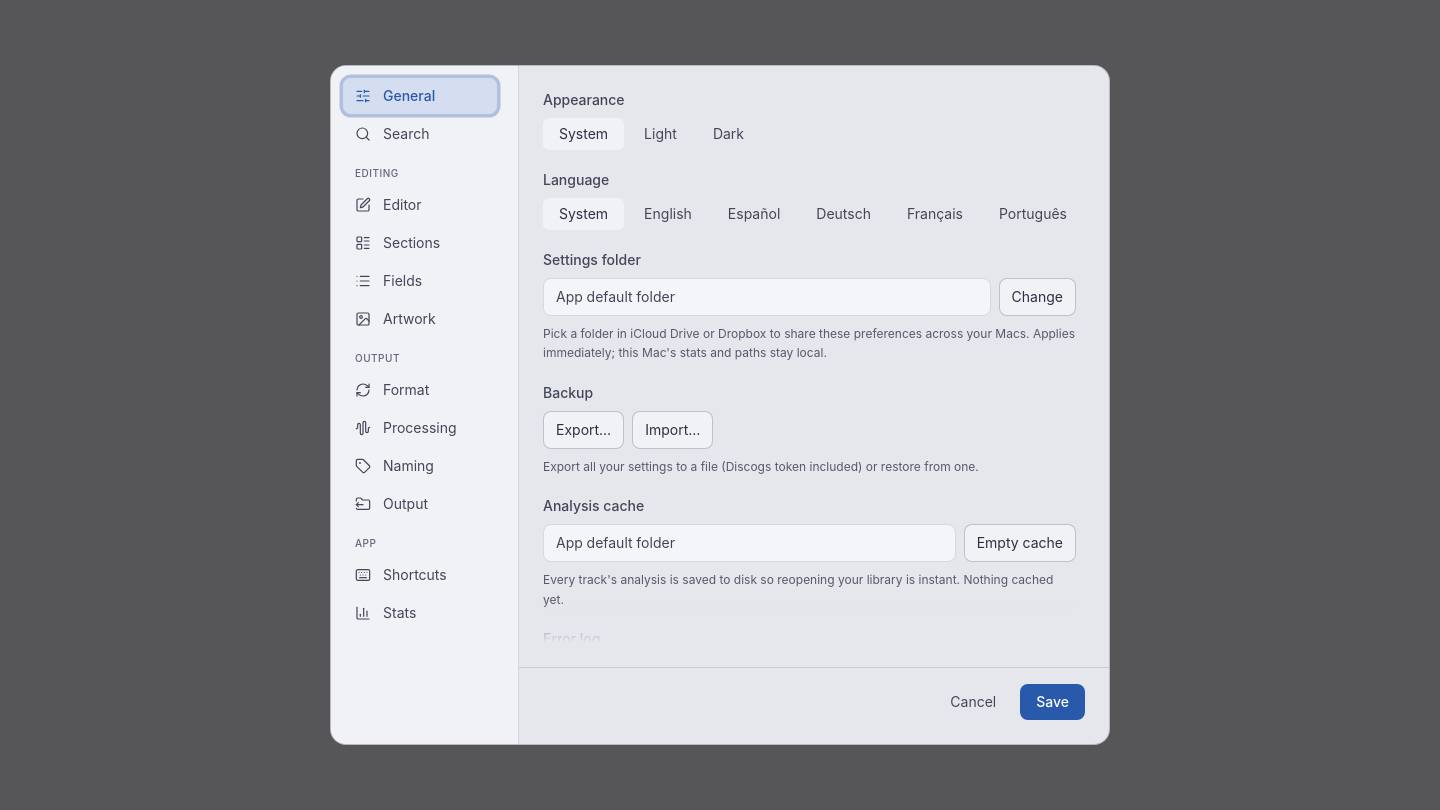
Test: SettingsModal destination › pins the destination to the output folder and disables Apple Music for FLAC
Click the tab with test id "settings-tab-destination". click: (420, 504)
box: x1=343 y1=486 x2=497 y2=522
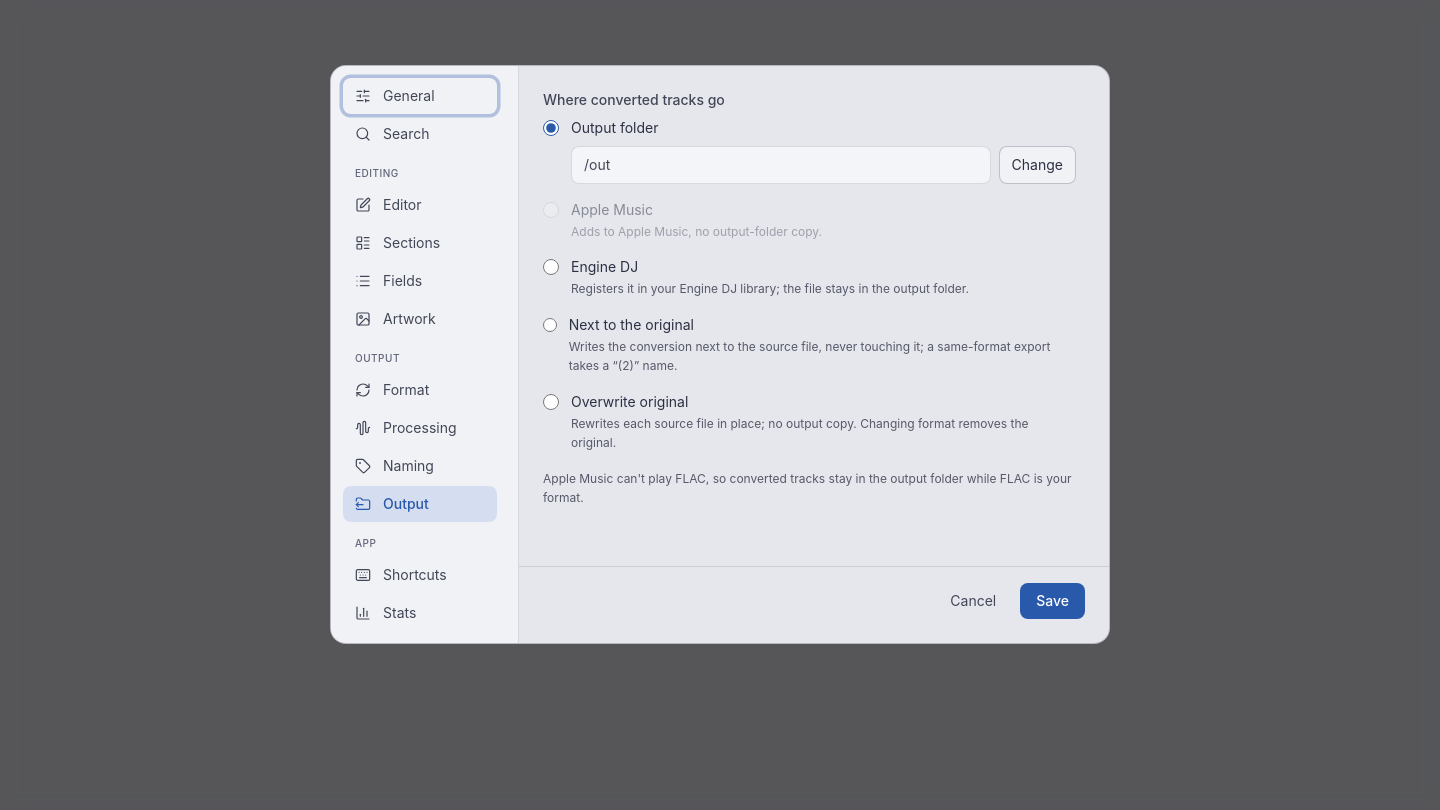
Check: the radio button with test id "settings-destination-folder" is checked, box x1=543 y1=120 x2=559 y2=136
